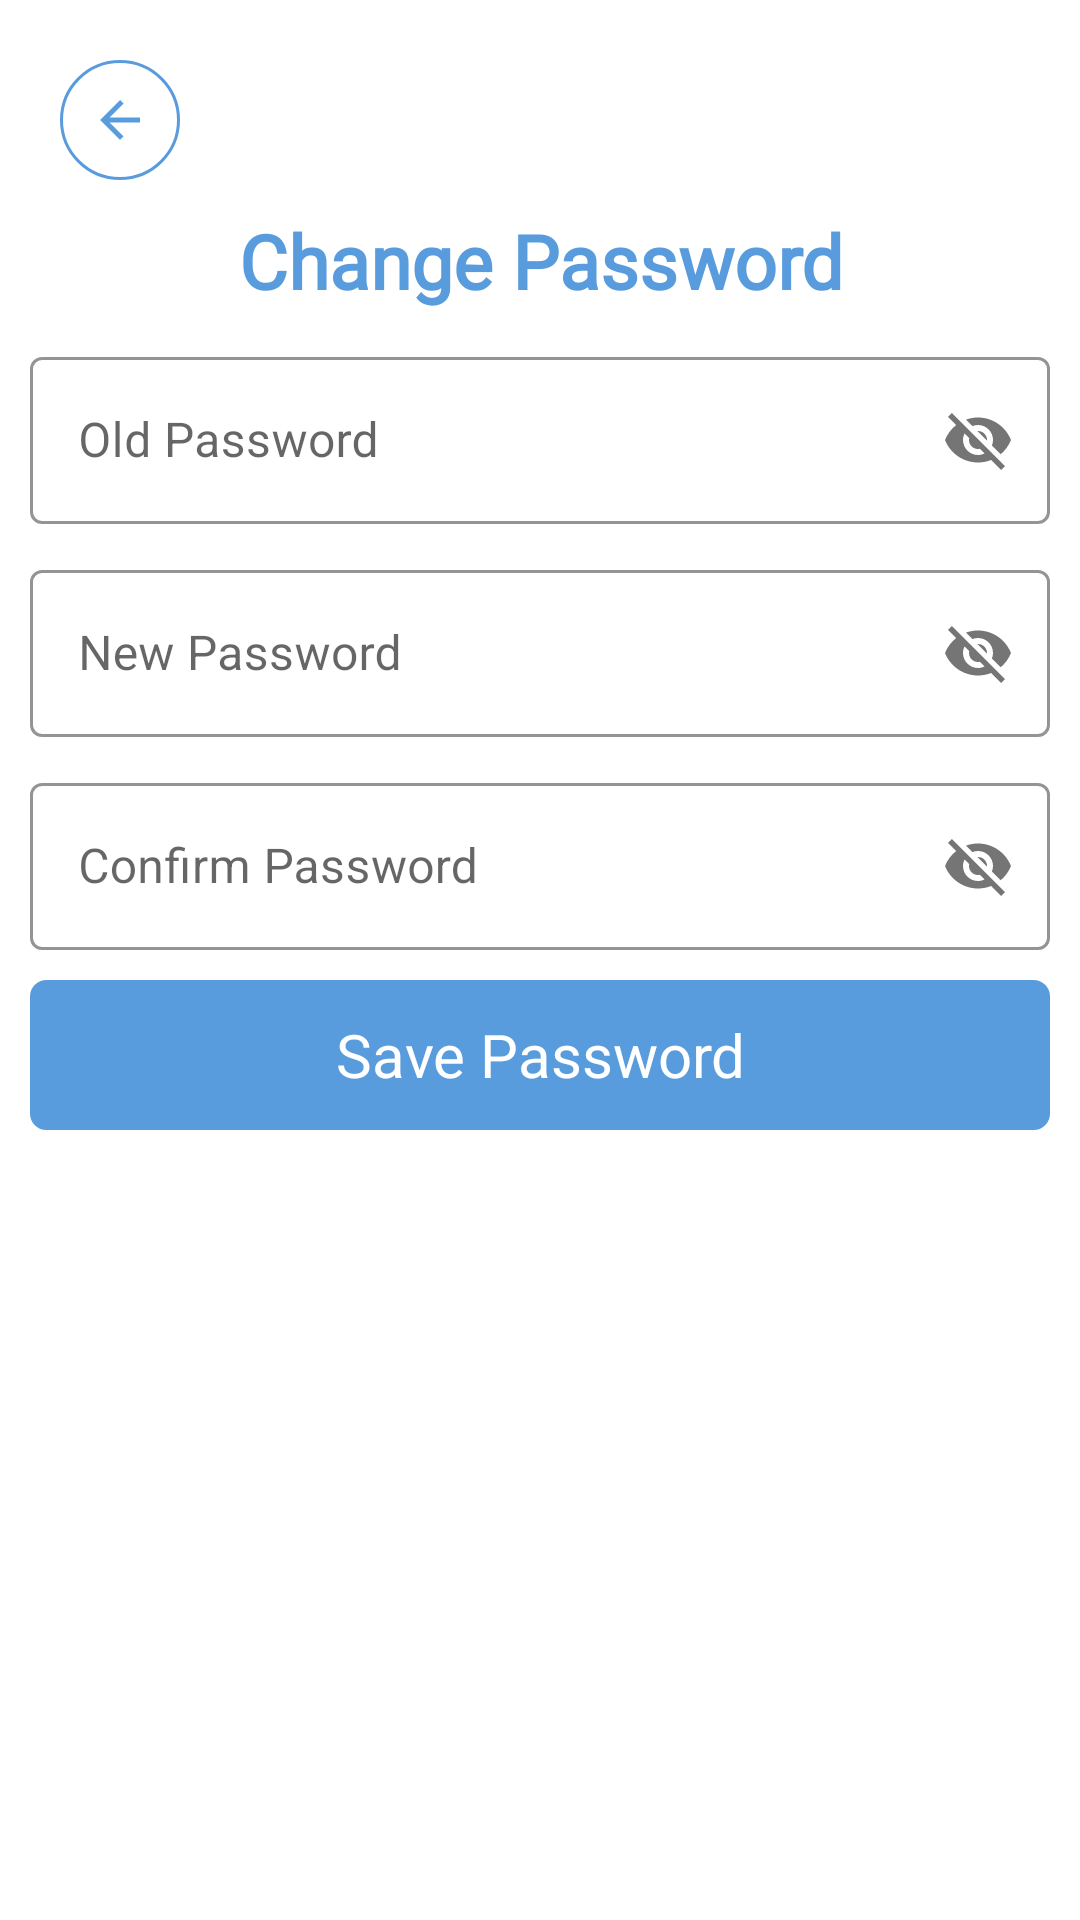

Screen size 1080 x 1920. Icon name, then its center in pixels as [x,y]:
Arrow Back: [120,120]
